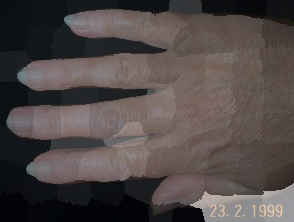vitiligo: (2, 8, 294, 218)
